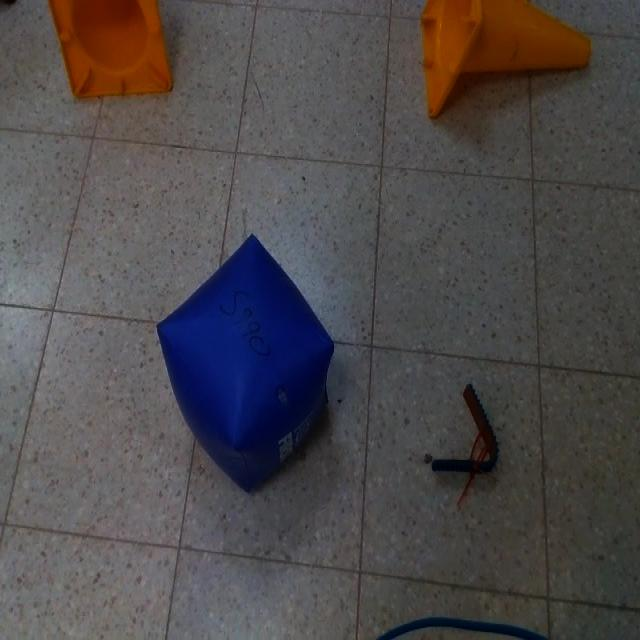cone: (420, 0, 592, 113), (50, 0, 174, 97)
cube: (157, 232, 334, 491)
